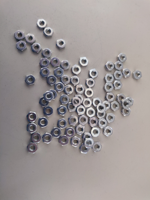nut: (27, 143, 39, 154), (38, 117, 50, 128), (43, 106, 54, 117), (46, 75, 57, 86), (27, 112, 38, 122), (27, 123, 37, 134), (31, 133, 42, 143), (52, 128, 63, 138), (66, 127, 76, 138), (39, 97, 50, 107), (71, 137, 81, 148), (76, 125, 86, 136), (79, 144, 90, 154), (84, 138, 94, 149), (68, 116, 79, 126), (25, 75, 36, 85), (44, 91, 54, 102), (61, 74, 71, 85), (42, 48, 53, 58), (37, 19, 47, 30), (78, 115, 88, 126), (59, 136, 69, 146), (58, 119, 68, 129), (58, 106, 68, 116), (60, 95, 70, 105), (40, 67, 50, 77), (55, 82, 65, 92), (14, 30, 24, 40), (32, 43, 42, 53), (40, 58, 50, 68), (50, 57, 60, 67), (56, 39, 66, 49), (44, 27, 54, 37), (79, 57, 89, 67), (89, 69, 99, 79), (118, 53, 128, 63), (83, 98, 93, 108), (67, 102, 77, 112), (133, 70, 143, 80), (86, 78, 96, 88), (103, 127, 113, 137), (91, 128, 101, 138), (89, 117, 99, 127), (106, 113, 116, 123), (106, 92, 116, 102), (43, 133, 52, 144), (17, 40, 26, 51), (93, 98, 102, 109), (111, 101, 120, 112), (93, 142, 102, 152), (49, 90, 58, 100), (85, 88, 94, 98), (26, 34, 35, 44), (61, 60, 70, 70), (72, 65, 81, 75), (71, 76, 80, 86), (65, 85, 74, 95), (76, 85, 85, 95), (72, 97, 81, 107), (104, 83, 114, 92), (87, 108, 96, 118), (77, 106, 86, 116), (97, 104, 106, 114), (99, 119, 108, 129), (122, 107, 131, 117), (106, 62, 115, 71), (105, 74, 114, 83), (114, 71, 123, 80), (115, 61, 124, 70), (123, 69, 132, 78), (114, 81, 123, 90), (122, 100, 131, 109), (125, 97, 134, 106), (103, 101, 111, 111), (118, 94, 126, 104), (75, 95, 84, 103), (83, 133, 93, 140), (97, 111, 106, 118)
